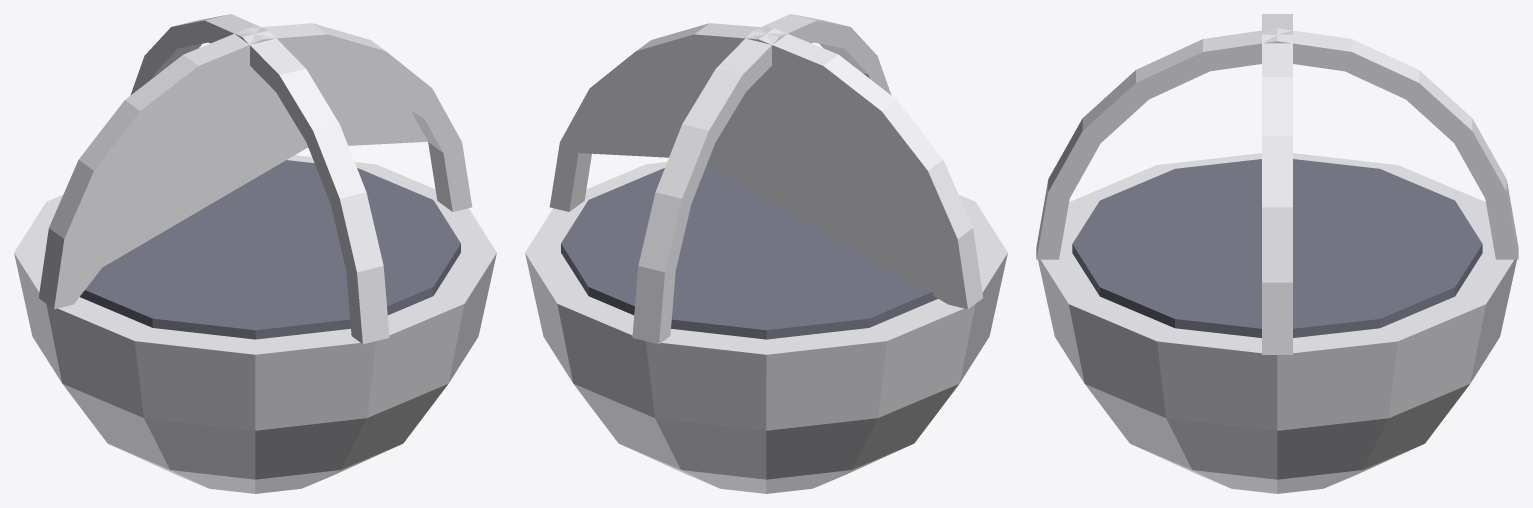
Rendered from tunnel-1x1-square.glb.
The picture shows the model from 3 angles, left to right: view 1: azimuth 30°, elevation 25°; view 2: azimuth 150°, elevation 25°; view 3: azimuth 270°, elevation 25°; orthographic projection.
Parts seen in each view (by area): view 1: tunnel-1x1-square; view 2: tunnel-1x1-square; view 3: tunnel-1x1-square.
Boxes of the visible parts, x1=… form: tunnel-1x1-square: x1=14, y1=14, x2=496, y2=493; tunnel-1x1-square: x1=525, y1=14, x2=1007, y2=493; tunnel-1x1-square: x1=1036, y1=14, x2=1518, y2=493.
Size of the model in its own units: 0.47 by 0.47 by 0.47.
1 material, 1 textured.
